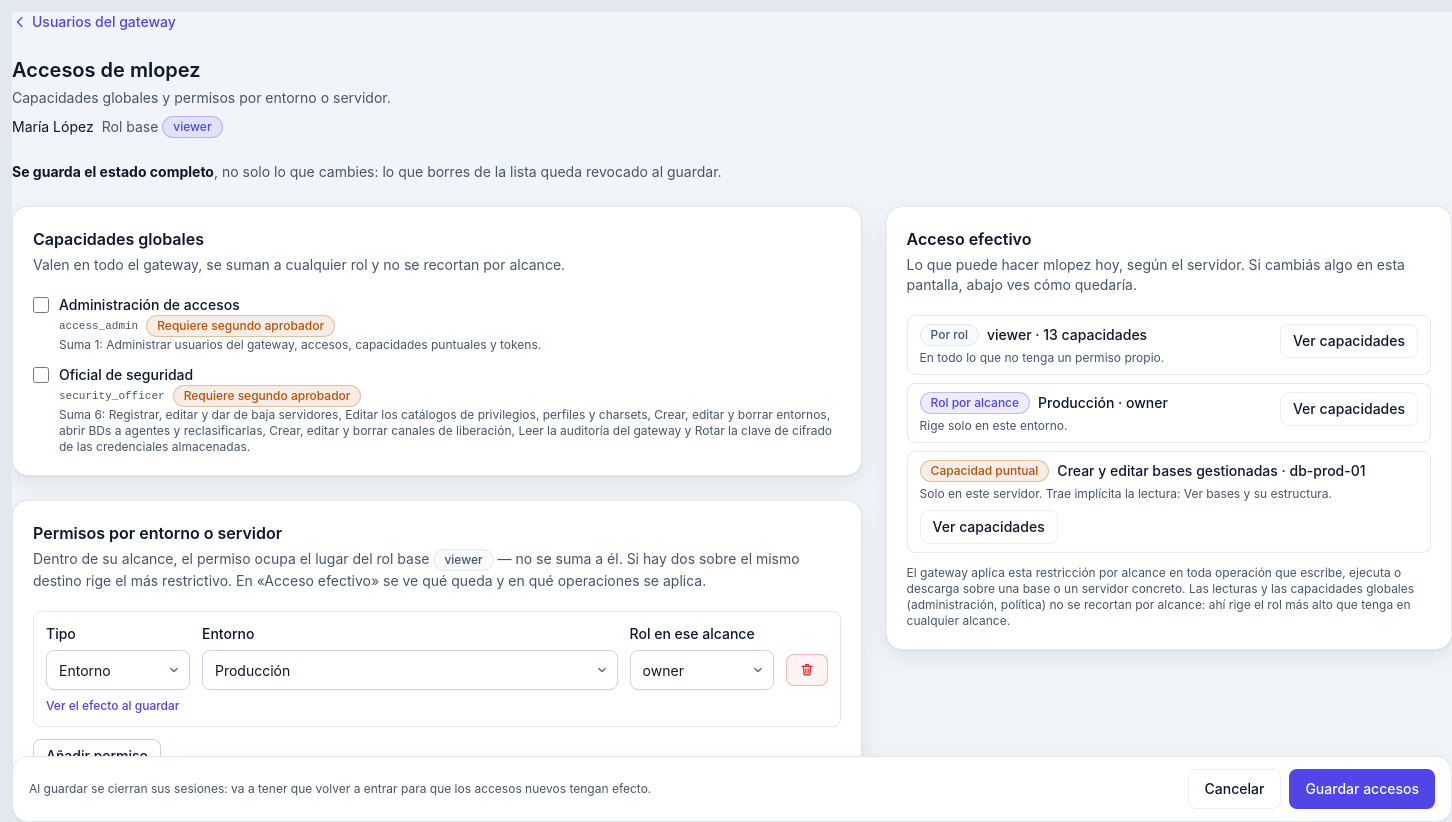
it: GatewayUserAccessPage — separación de funciones › con una excepción vigente de esa persona dice que el servidor acepta guardar
Click the checkbox labelled "Oficial de seguridad" at (41, 375), box [33,367,49,383]
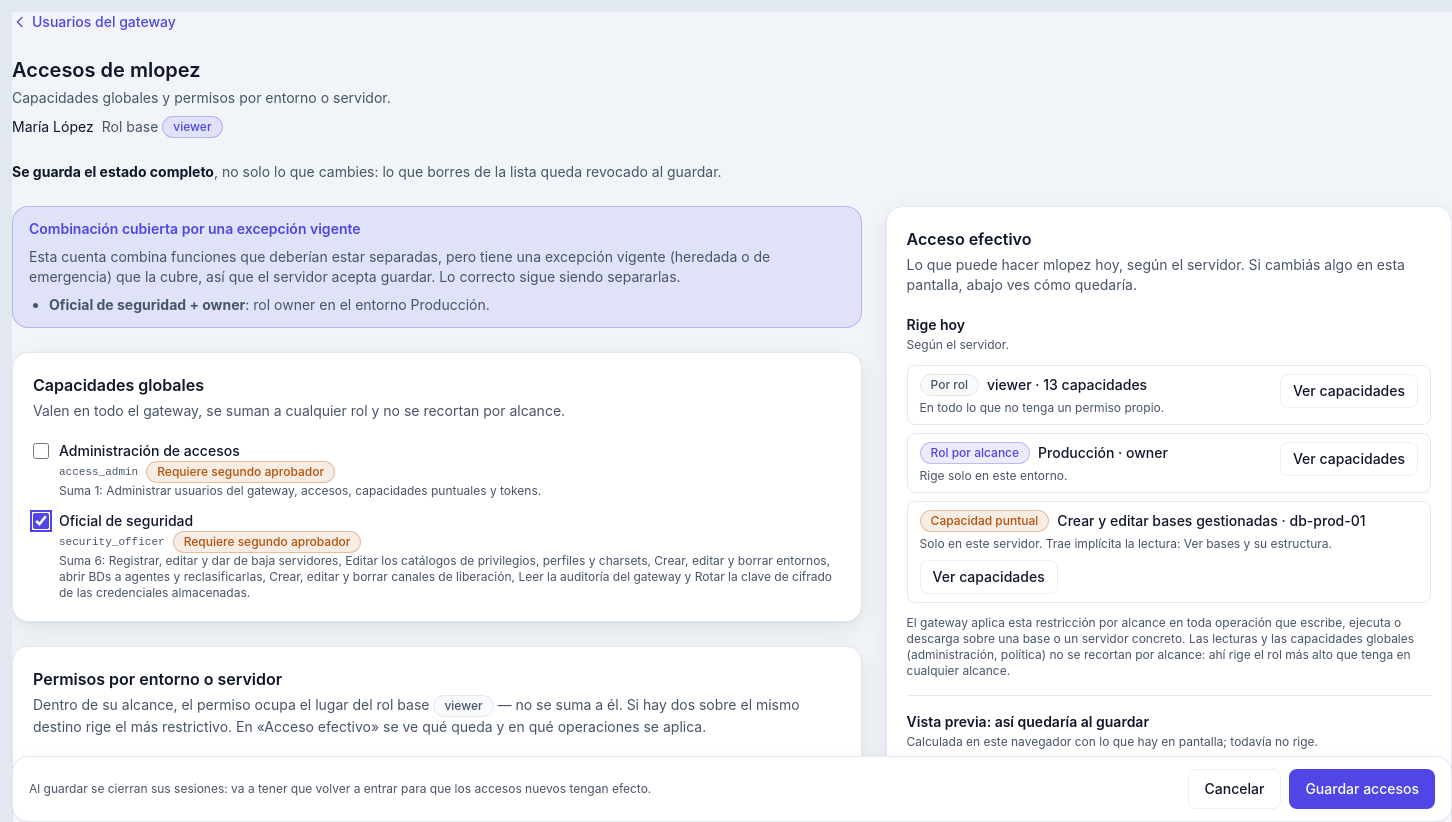
Check: the text "Combinación cubierta por una excepción vigente" is shown, box [29,220,361,237]
